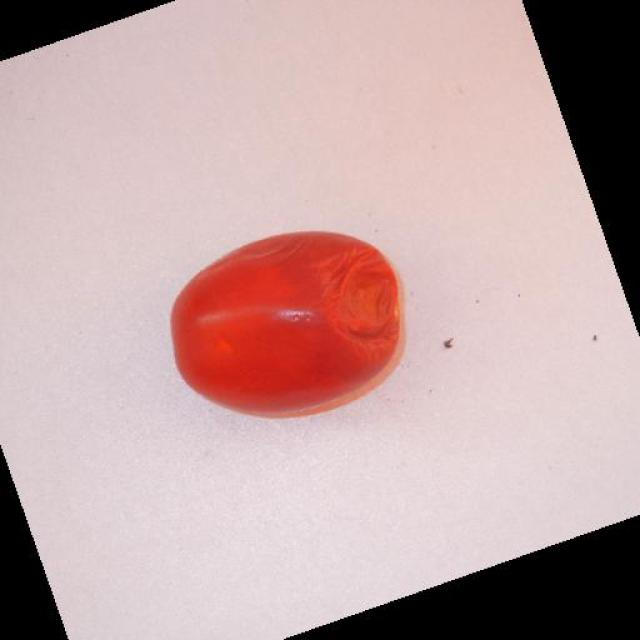Stale_tomato: (255, 258, 401, 389)
